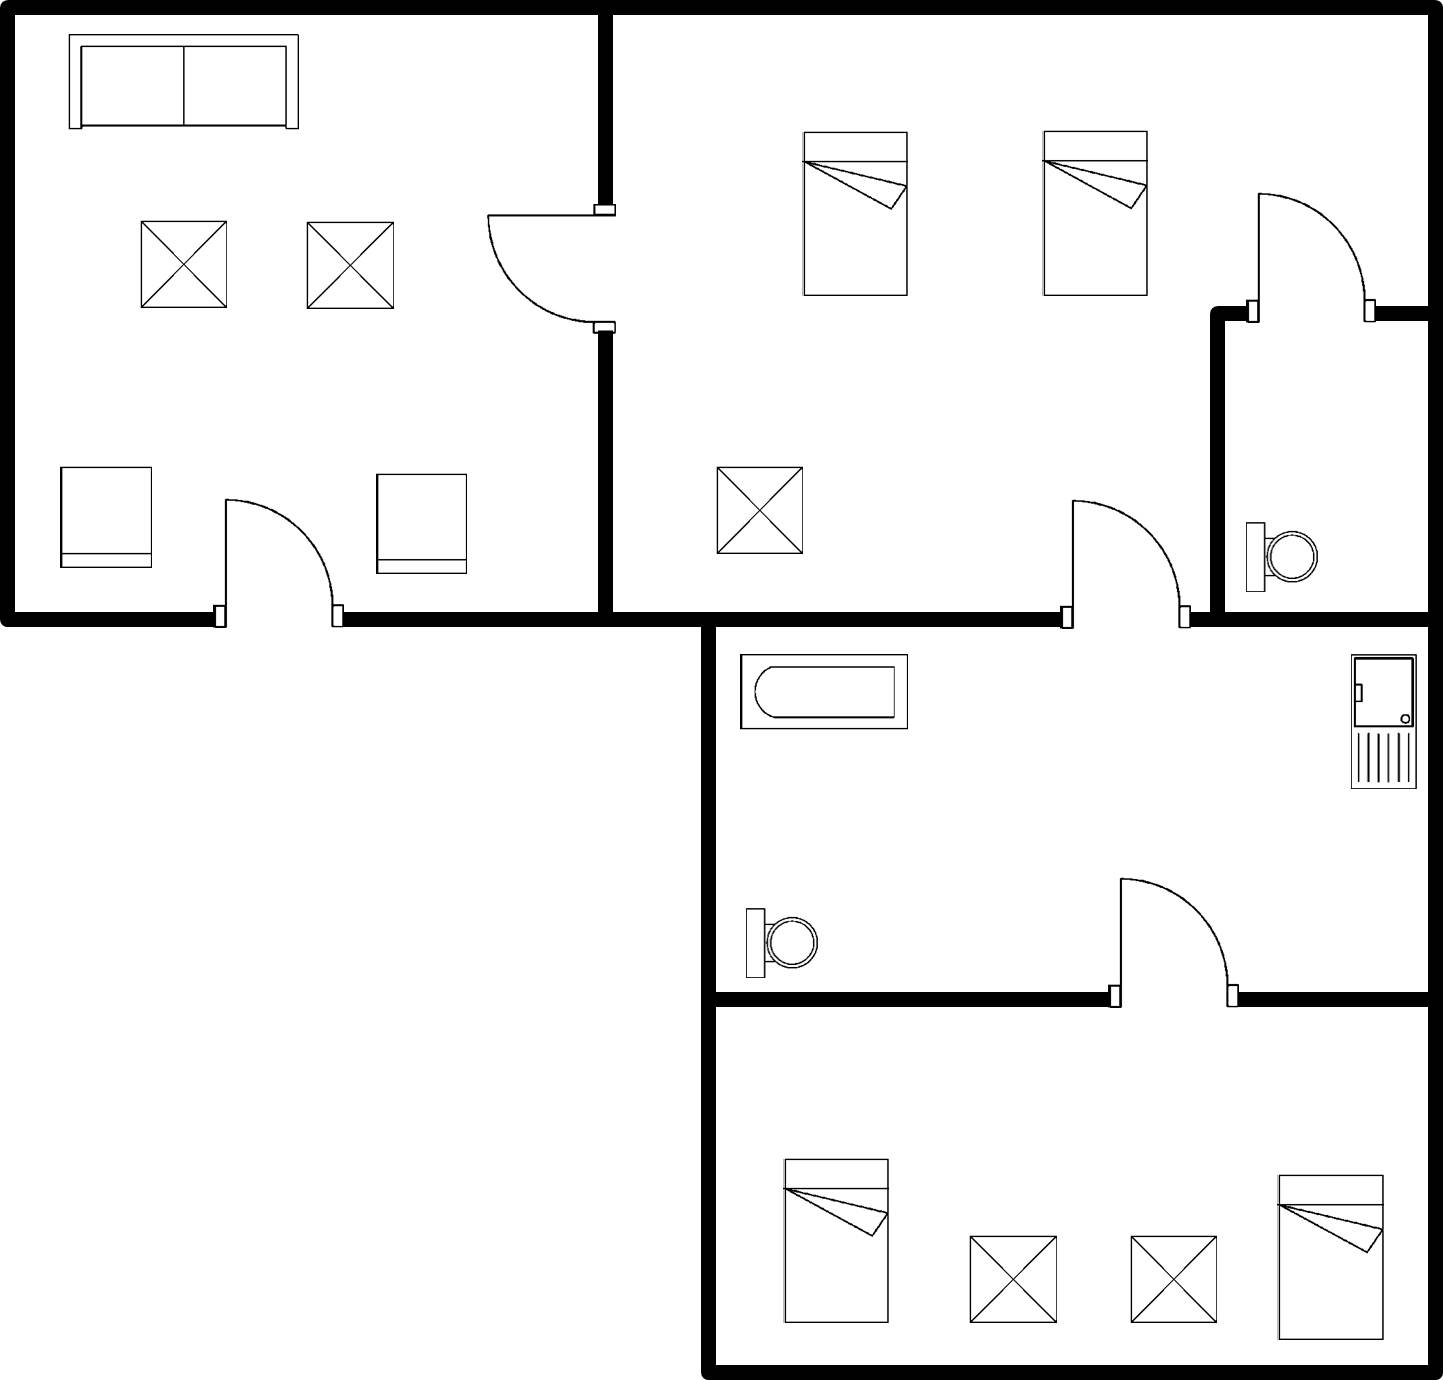bed: (1028, 115, 1161, 308), (1265, 1165, 1396, 1351), (770, 1147, 900, 1334), (796, 122, 917, 304)
coffee_table: (702, 457, 815, 566), (1116, 1224, 1225, 1335), (130, 208, 238, 318), (296, 212, 405, 320), (962, 1226, 1066, 1331)
large_sink: (1235, 512, 1325, 604), (738, 896, 824, 987)
large_sofa: (58, 26, 308, 141)
sink: (1339, 645, 1424, 804)
small_sofa: (50, 456, 165, 580), (363, 464, 477, 581)
tub: (732, 645, 932, 743)
